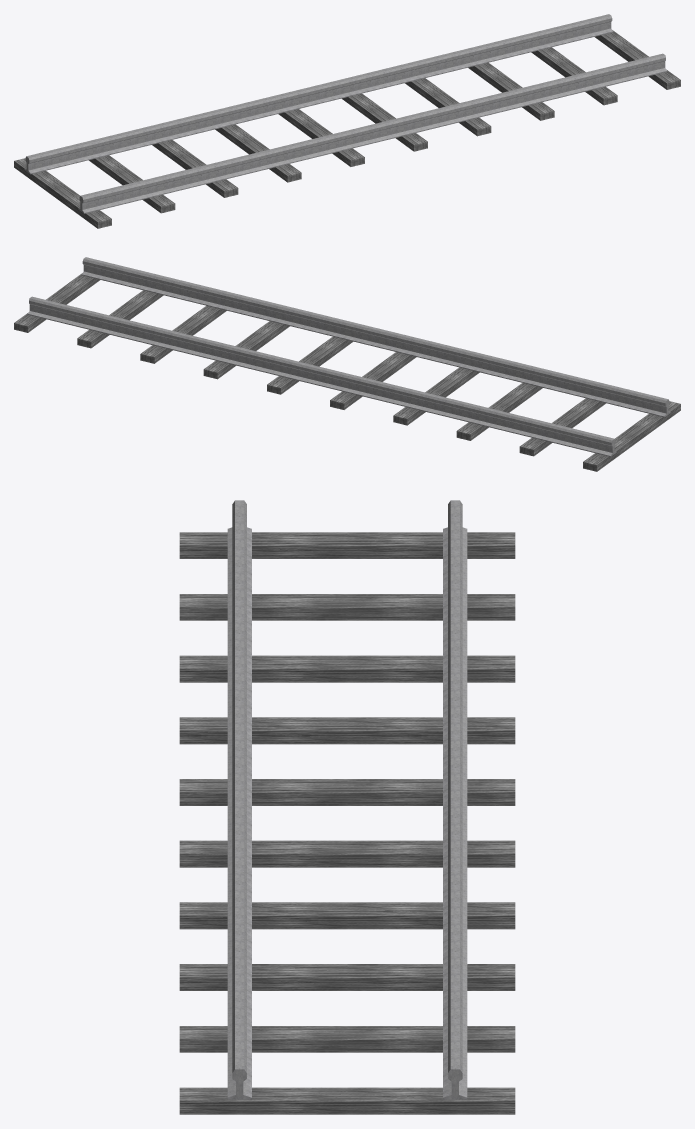
Rendered from railroad.fbx.
The picture shows the model from 3 angles, top to bottom: view 1: azimuth 30°, elevation 25°; view 2: azimuth 150°, elevation 25°; view 3: azimuth 270°, elevation 25°; orthographic projection. The views are drawn at different scales.
Parts seen in each view (by area): view 1: Cube.015, Cube.014; view 2: Cube.015, Cube.014; view 3: Cube.014, Cube.015.
Part boxes in pixels (x1,y1,x2,y2): Cube.015: [24, 14, 667, 213]; Cube.014: [14, 30, 680, 228]; Cube.015: [27, 257, 670, 456]; Cube.014: [14, 273, 680, 471]; Cube.014: [179, 532, 515, 1114]; Cube.015: [227, 500, 467, 1099].
Bounding box in the file's own units: 2007 × 71.2 × 499.
